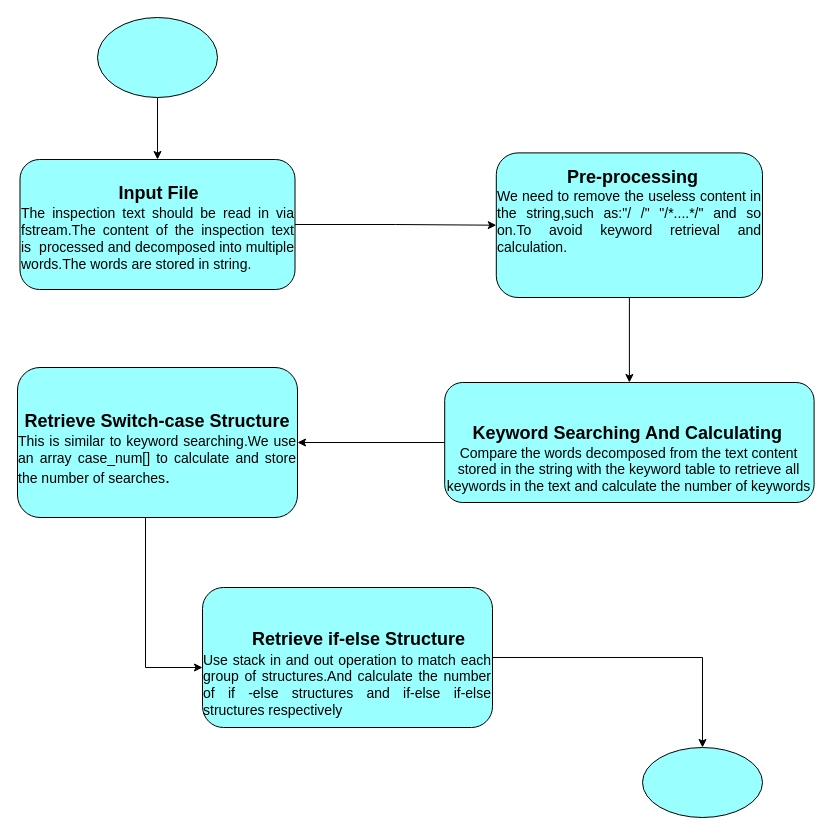
Image size: 832x835. Some labels were removed from this diagram. Here are the shapes that lost their labels. From the top down, the box of each, then its label:
(96, 16, 218, 98): Start
(642, 746, 762, 818): End
